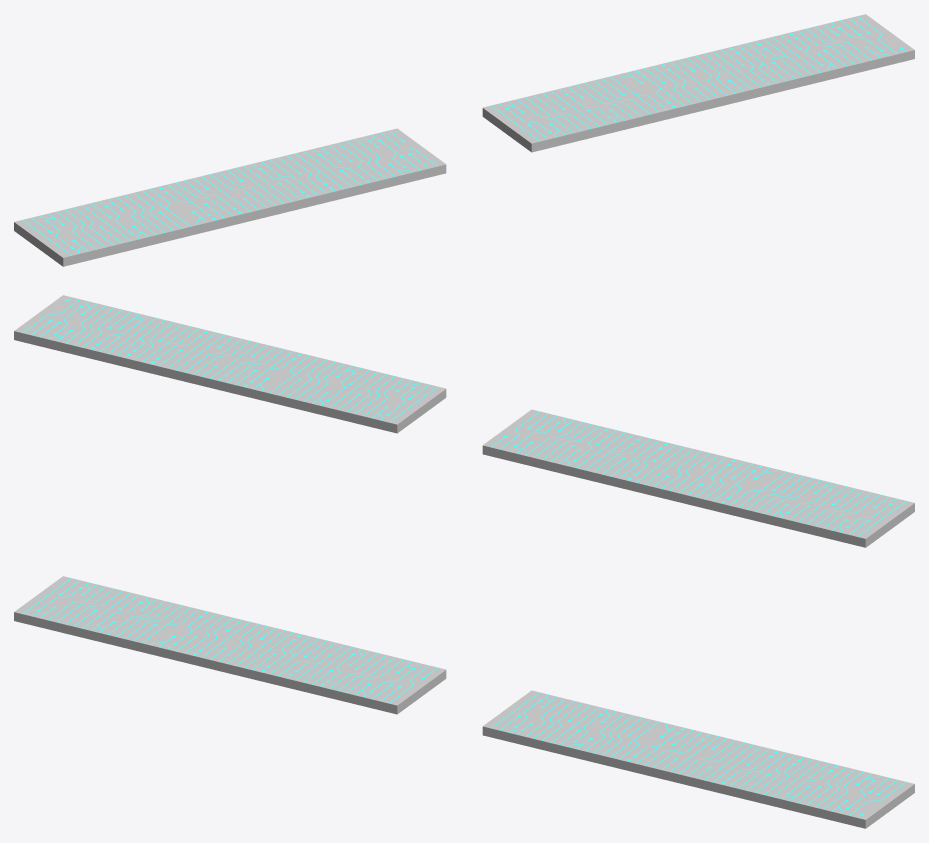
The model's file is floor_metallic2.glb.
The picture shows the model from 3 angles, top to bottom: view 1: azimuth 30°, elevation 25°; view 2: azimuth 150°, elevation 25°; view 3: azimuth 330°, elevation 25°; orthographic projection.
Visible parts, largest first — view 1: Cube.009, Plane.032; view 2: Cube.009, Plane.032; view 3: Cube.009, Plane.032.
Boxes of the visible parts, x1,y1,x2,y2 form: Cube.009: (14, 14, 914, 266); Plane.032: (22, 16, 906, 255); Cube.009: (14, 295, 914, 547); Plane.032: (22, 297, 906, 536); Cube.009: (14, 576, 914, 828); Plane.032: (22, 578, 906, 817).
Size of the model in its own units: 200 by 2.01 by 20.
